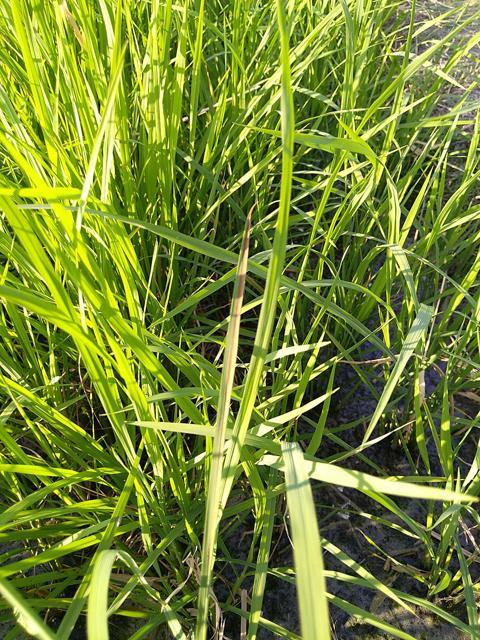Leaf Streak: (205, 206, 256, 523)
